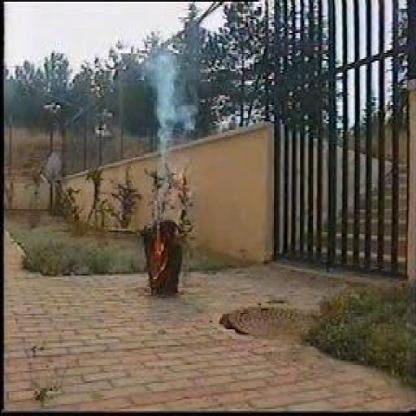-: (152, 50, 195, 161)
foggia-v2-map80-epoch100 - v1 4323: (153, 226, 167, 271)
